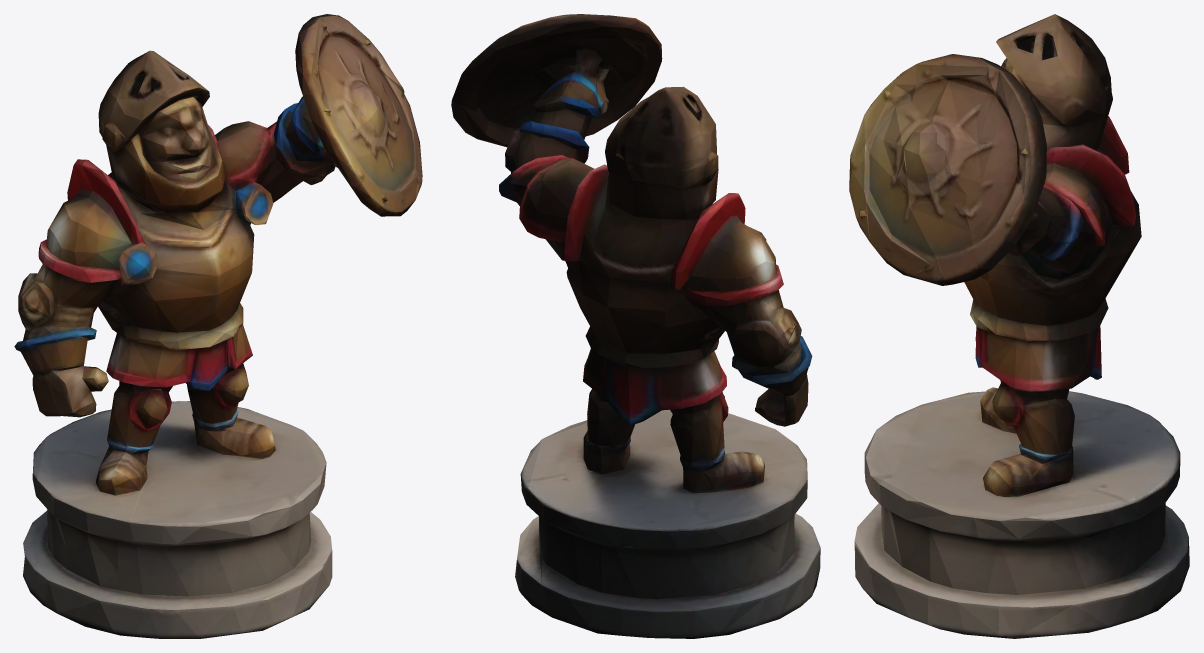
File: statue.glb
3 renders of one model, left to right at view 1: azimuth 30°, elevation 25°; view 2: azimuth 150°, elevation 25°; view 3: azimuth 270°, elevation 25°, orthographic. The views are drawn at different scales.
Visible parts, largest first — view 1: geometry_0; view 2: geometry_0; view 3: geometry_0.
Boxes of the visible parts, left/top/right/bottom form: geometry_0: left=14, top=14, right=422, bottom=638; geometry_0: left=451, top=14, right=820, bottom=638; geometry_0: left=849, top=14, right=1189, bottom=638.
Size of the model in its own units: 0.737 by 1 by 0.5405.
Materials: 1 (1 with a texture image).
